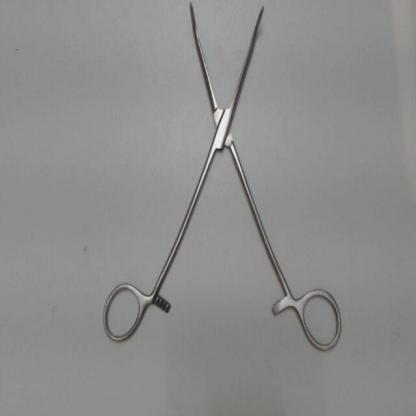Lahey Forceps: (97, 1, 346, 354)
